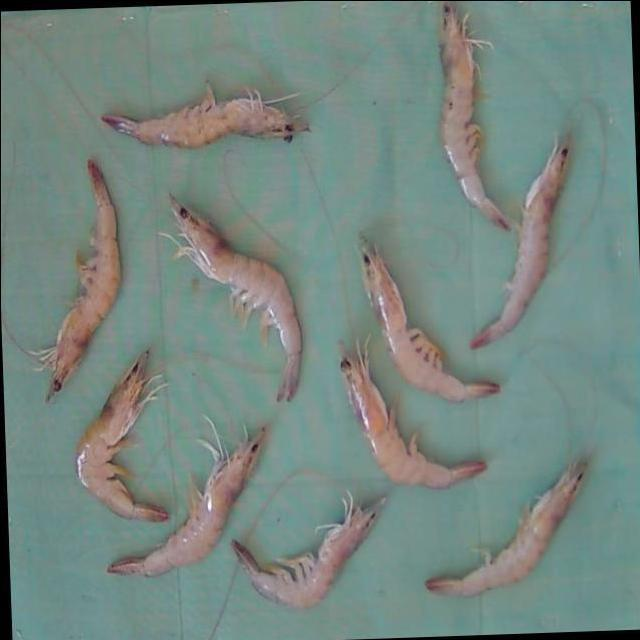shrimp: (168, 195, 301, 400), (106, 418, 265, 577), (360, 237, 499, 402), (29, 160, 119, 402), (340, 341, 486, 489), (425, 463, 586, 596), (470, 139, 569, 349), (230, 492, 385, 609), (439, 0, 510, 231), (74, 351, 168, 522), (100, 82, 308, 148)
